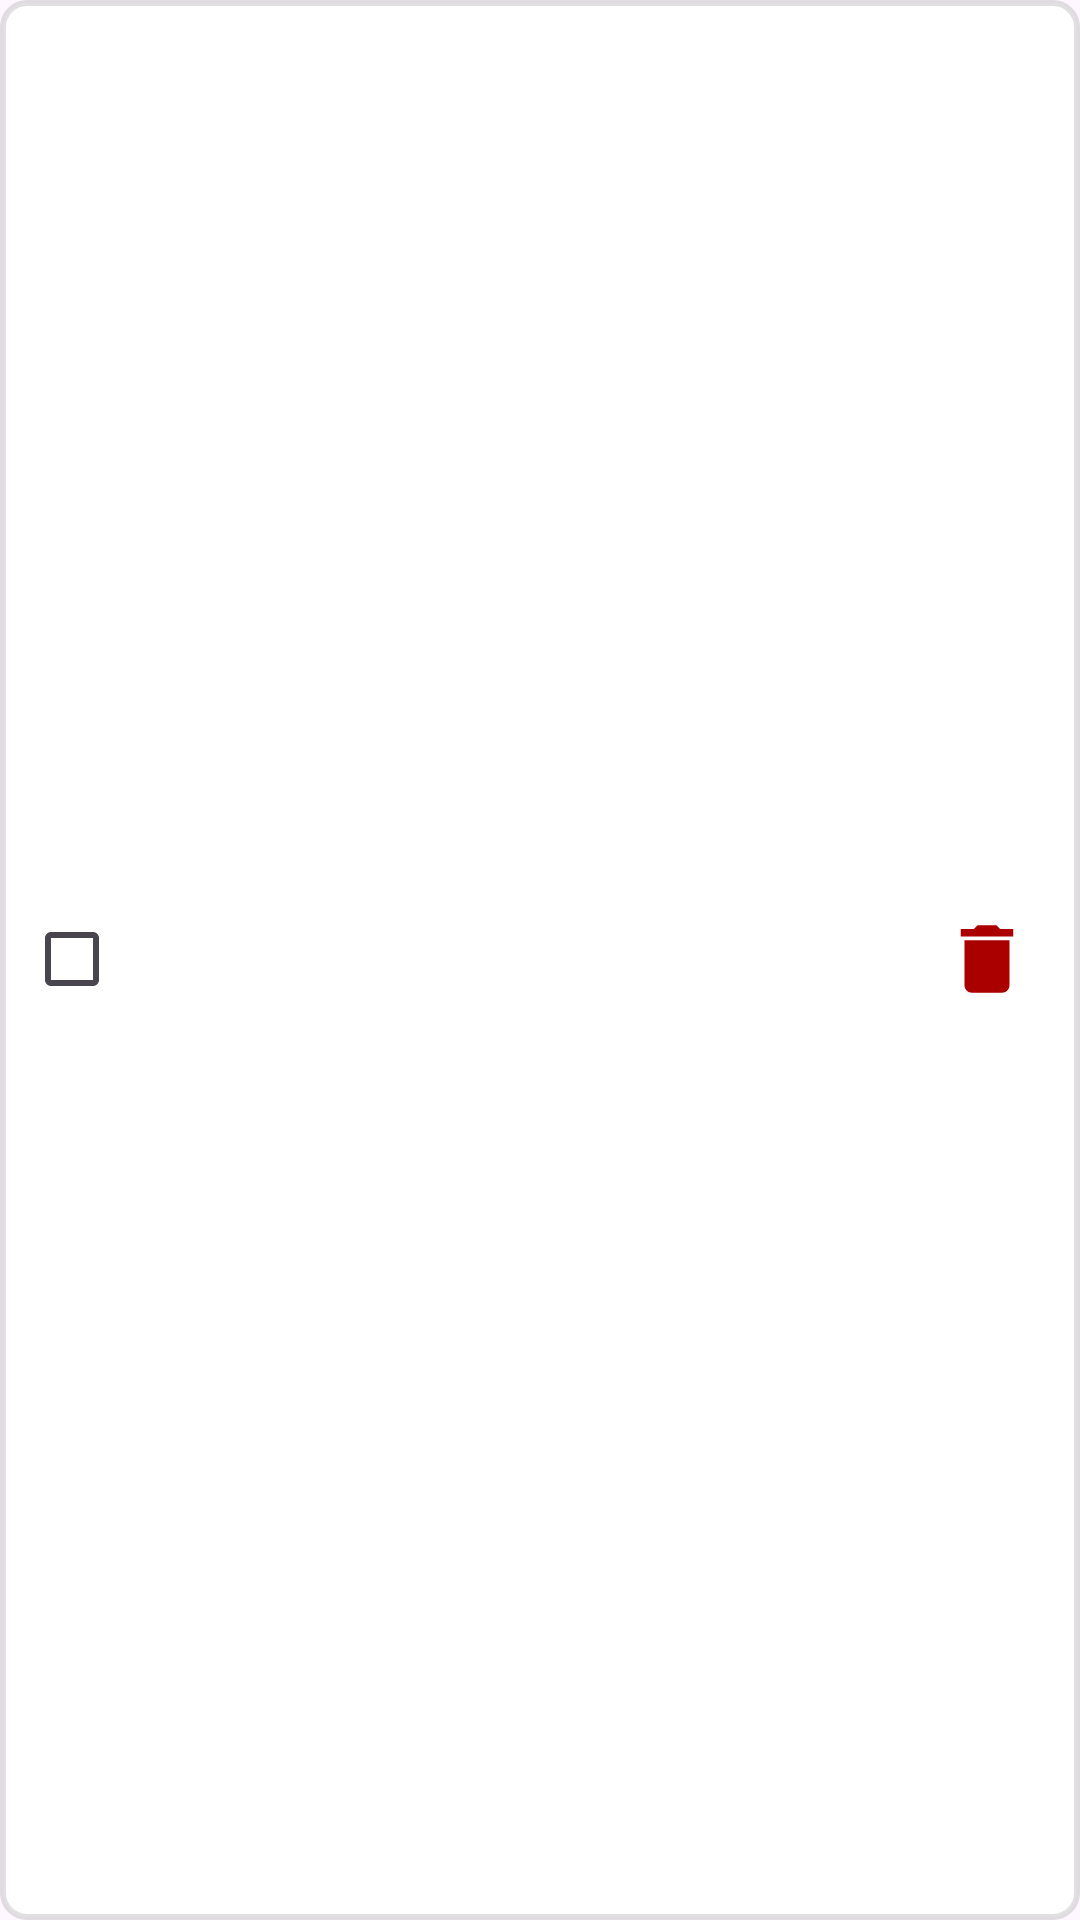

Locate icon controls on the screen. Image size 1080w x 1920h, boxes as [x1, y1, x2, y2].
trash: [960, 925, 1014, 993]
